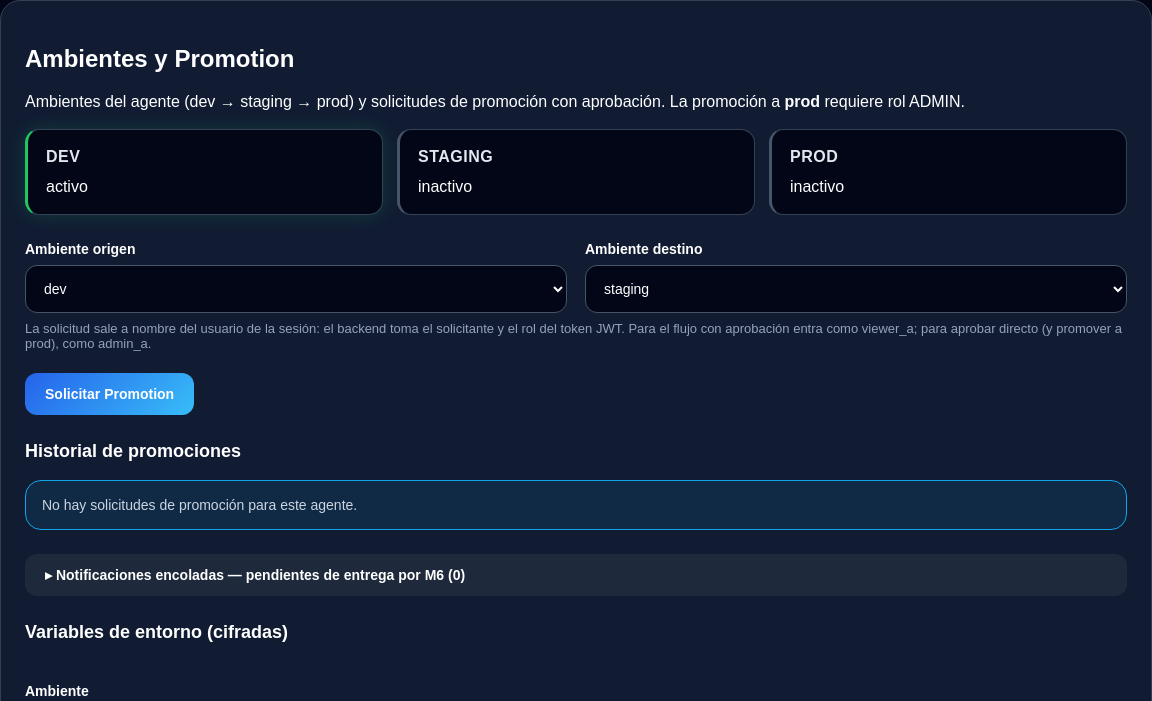
Test: PanelAmbientes › el 409 del release gate se muestra con su motivo
Click the button "Solicitar Promotion".
click(110, 394)  # box x1=25 y1=373 x2=194 y2=415
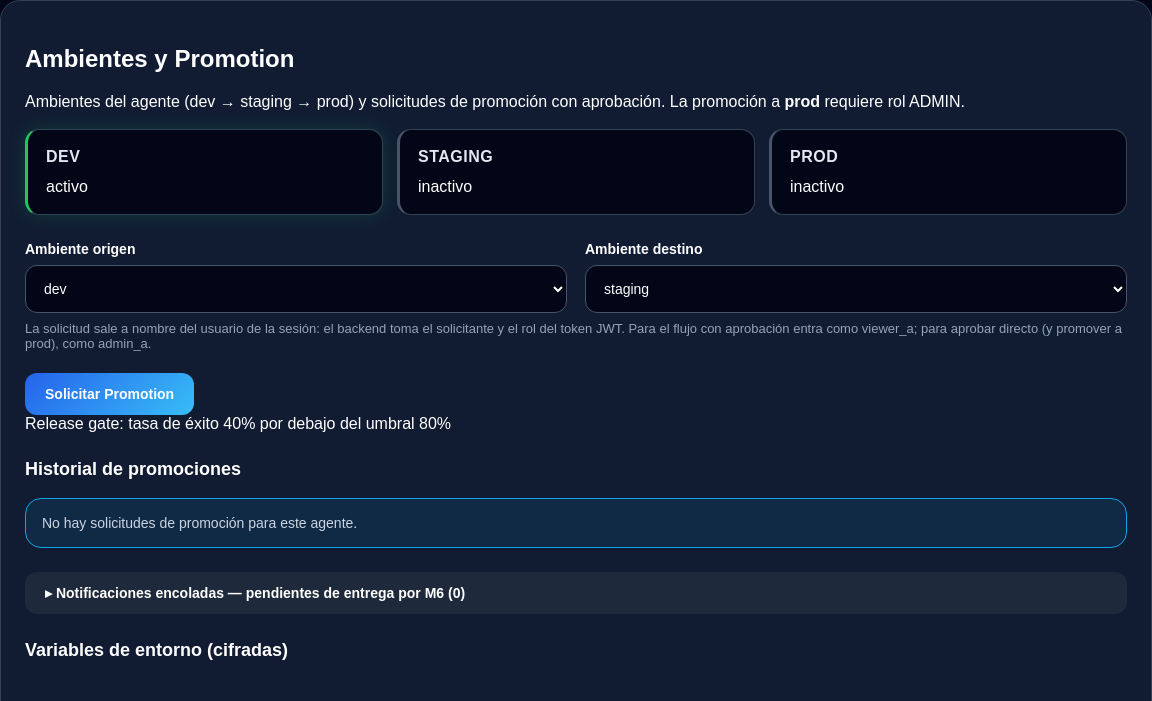
Expected: the text "Release gate: tasa de éxito 40% por debajo del umbral 80%" is shown, x1=25 y1=415 x2=451 y2=432
